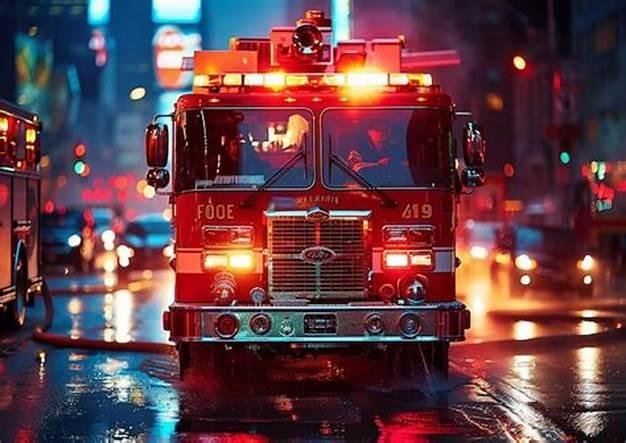Fire-engine: (138, 8, 495, 354)
